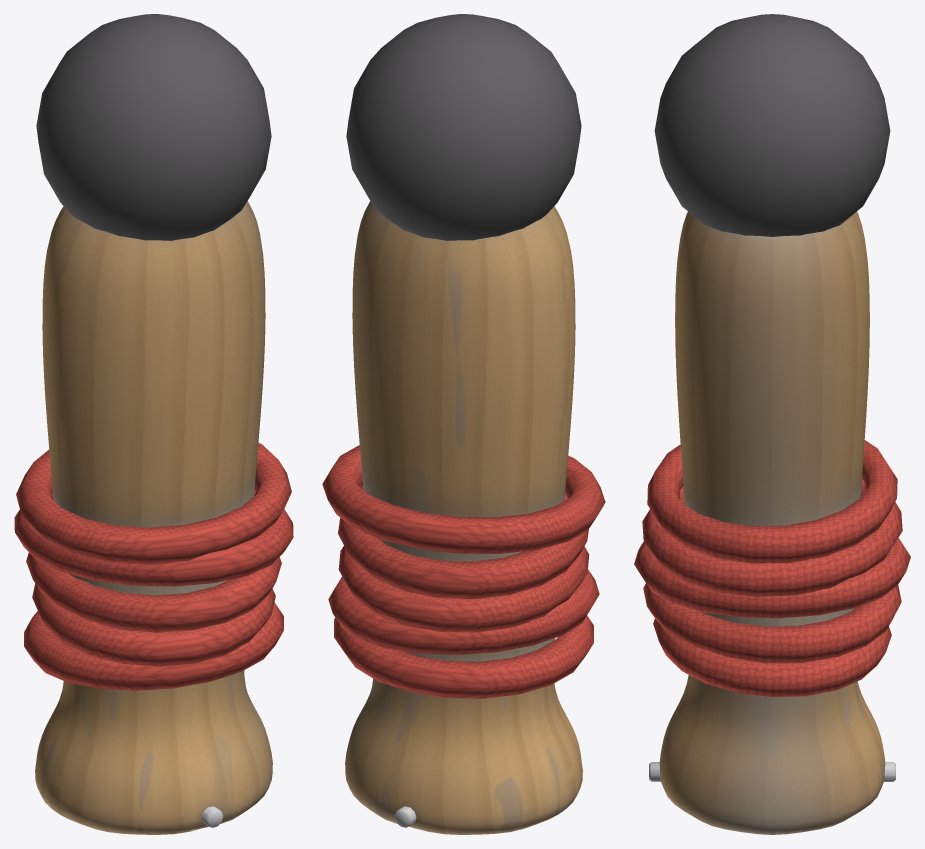
Rendered from LowerArm_R.glb.
3 renders of one model, left to right at view 1: azimuth 30°, elevation 25°; view 2: azimuth 150°, elevation 25°; view 3: azimuth 270°, elevation 25°, orthographic.
Parts seen in each view (by area): view 1: LowerArm_R, LowerArm_R_Wrap, LowerArm_R_Ball; view 2: LowerArm_R, LowerArm_R_Wrap, LowerArm_R_Ball; view 3: LowerArm_R, LowerArm_R_Wrap, LowerArm_R_Ball.
Part boxes in pixels (bbox=[...]): LowerArm_R: bbox=[35, 201, 272, 834]; LowerArm_R_Wrap: bbox=[14, 442, 293, 690]; LowerArm_R_Ball: bbox=[36, 14, 271, 240]; LowerArm_R: bbox=[345, 201, 582, 834]; LowerArm_R_Wrap: bbox=[322, 445, 605, 698]; LowerArm_R_Ball: bbox=[346, 14, 581, 240]; LowerArm_R: bbox=[659, 211, 885, 834]; LowerArm_R_Wrap: bbox=[634, 440, 910, 697]; LowerArm_R_Ball: bbox=[654, 14, 890, 236].
Bounding box in the file's own units: 0.109 × 0.3235 × 0.1058.
4 materials, 2 textured.
